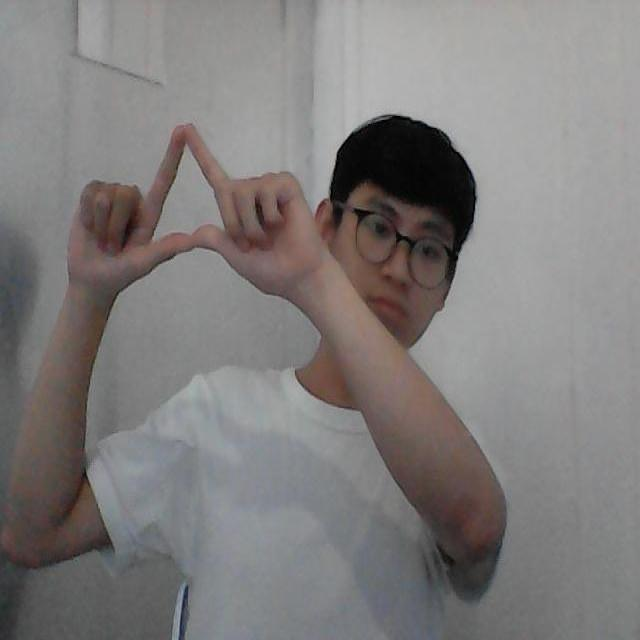A: (80, 123, 306, 290)
